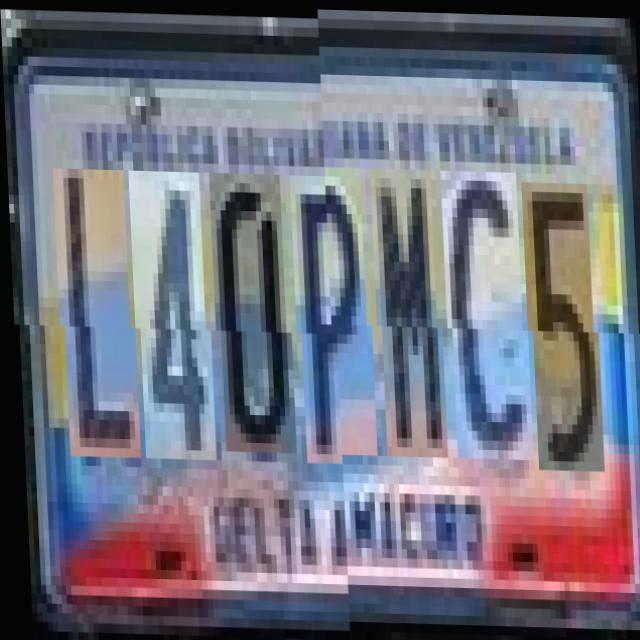0: (212, 172, 292, 452)
4: (132, 170, 213, 459)
5: (525, 188, 601, 478)
C: (444, 177, 530, 466)
L: (56, 168, 137, 457)
M: (374, 176, 444, 464)
P: (293, 174, 374, 462)
